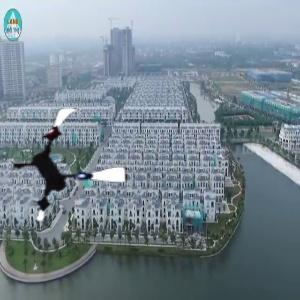drone: (5, 105, 133, 233)
